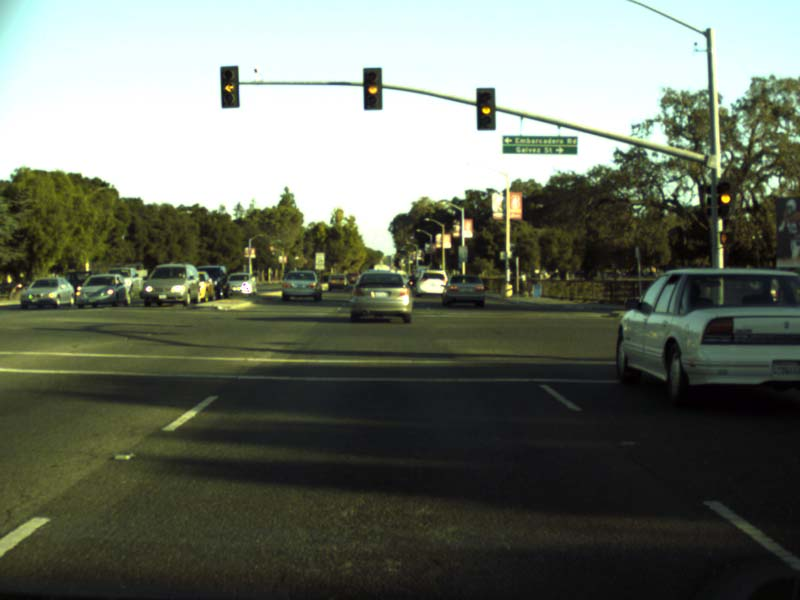Yellow: (362, 67, 382, 109), (219, 66, 238, 106), (476, 89, 495, 129), (718, 182, 730, 215)
